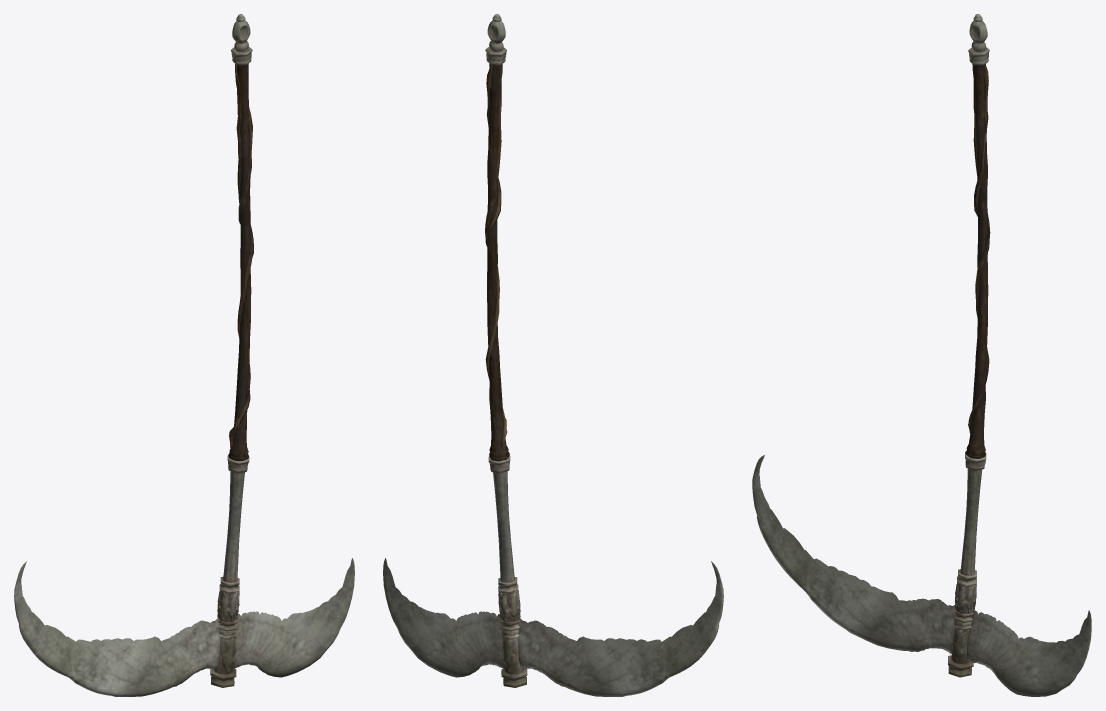
Rendered from weapon-wp_a_1057.glb.
3 views of the same model, side by side, from view 1: azimuth 30°, elevation 25°; view 2: azimuth 150°, elevation 25°; view 3: azimuth 330°, elevation 25° (orthographic).
Visible parts, largest first — view 1: wp_a_1057_mesh; view 2: wp_a_1057_mesh; view 3: wp_a_1057_mesh.
Part boxes in pixels (left/top/right/bottom): wp_a_1057_mesh: left=14, top=14, right=354, bottom=696; wp_a_1057_mesh: left=383, top=14, right=723, bottom=696; wp_a_1057_mesh: left=752, top=14, right=1091, bottom=696.
Bounding box in the file's own units: 1.2 × 2.26 × 0.0791.
1 material, 1 textured.
